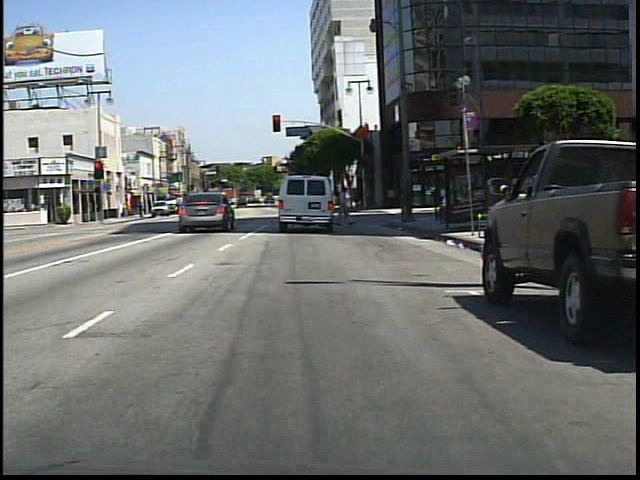person: (334, 182, 357, 227), (196, 192, 211, 218)
